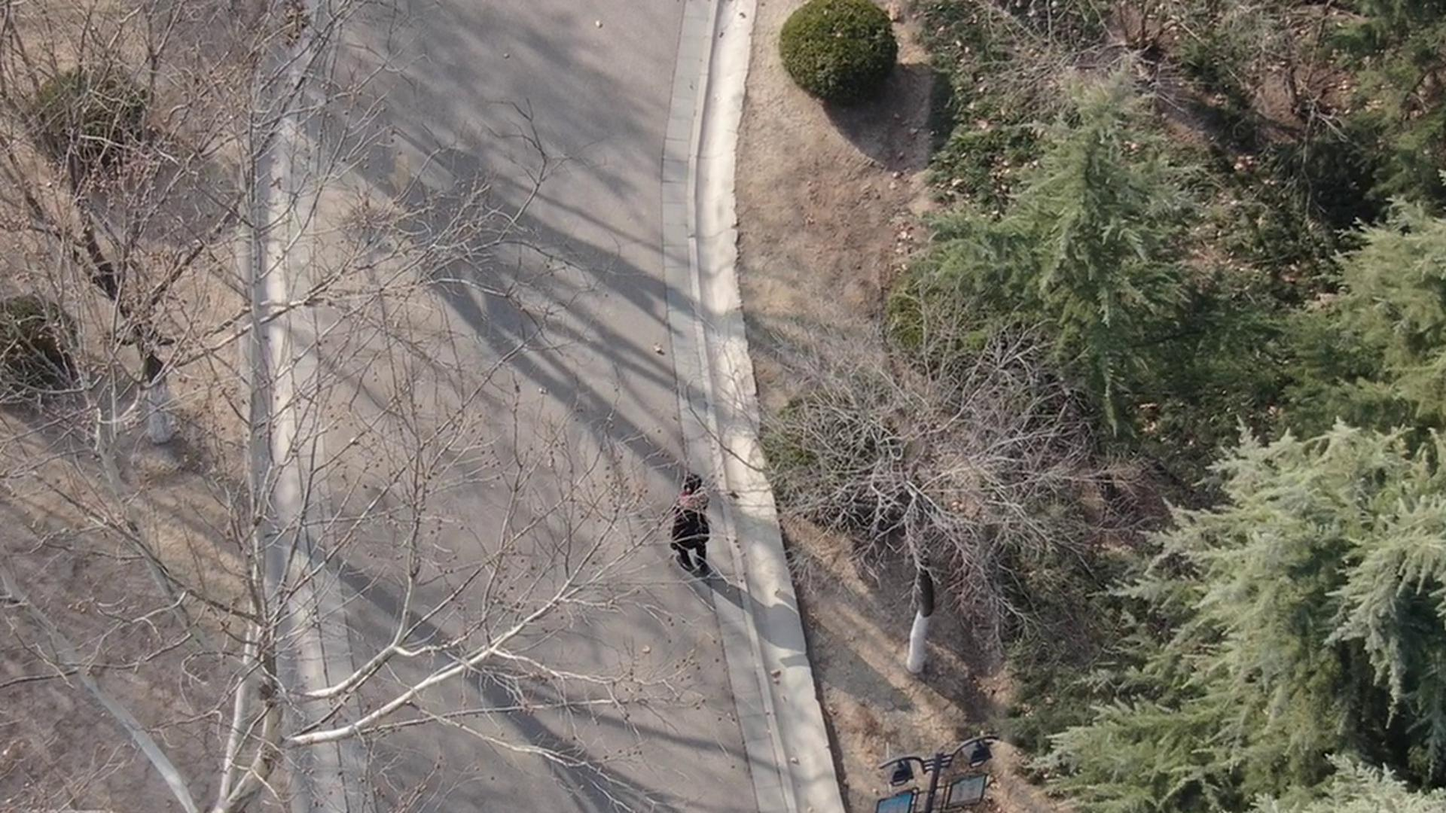human: (676, 470, 721, 571)
